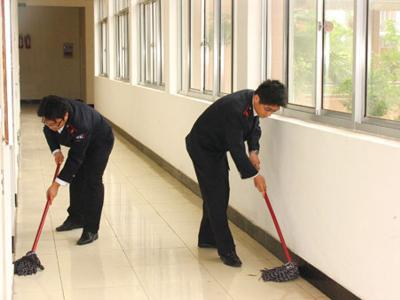person: (186, 80, 287, 271)
